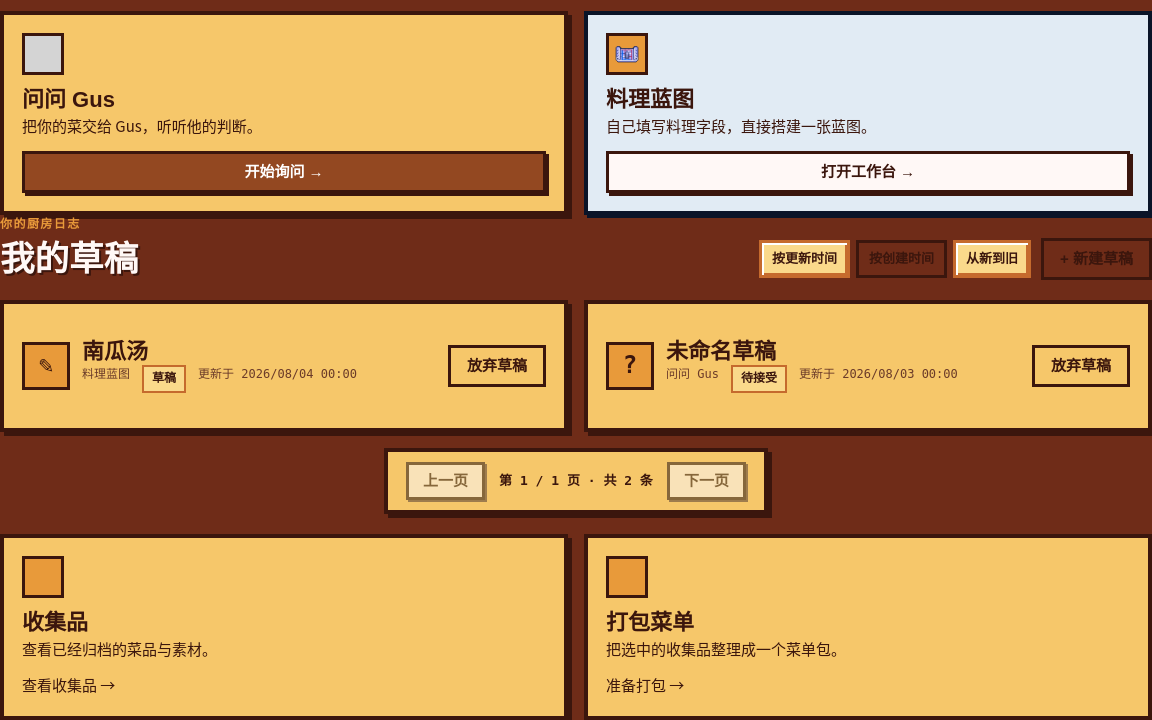
Test case: home page draft dashboard › deletes a draft after confirmation and refreshes the list
(page scrolled)
Expected: the heading "南瓜汤" is shown, [82,339,148,364]
Click the button "放弃草稿" in the row of "南瓜汤" at x=497, y=366, box [448,345,546,387]
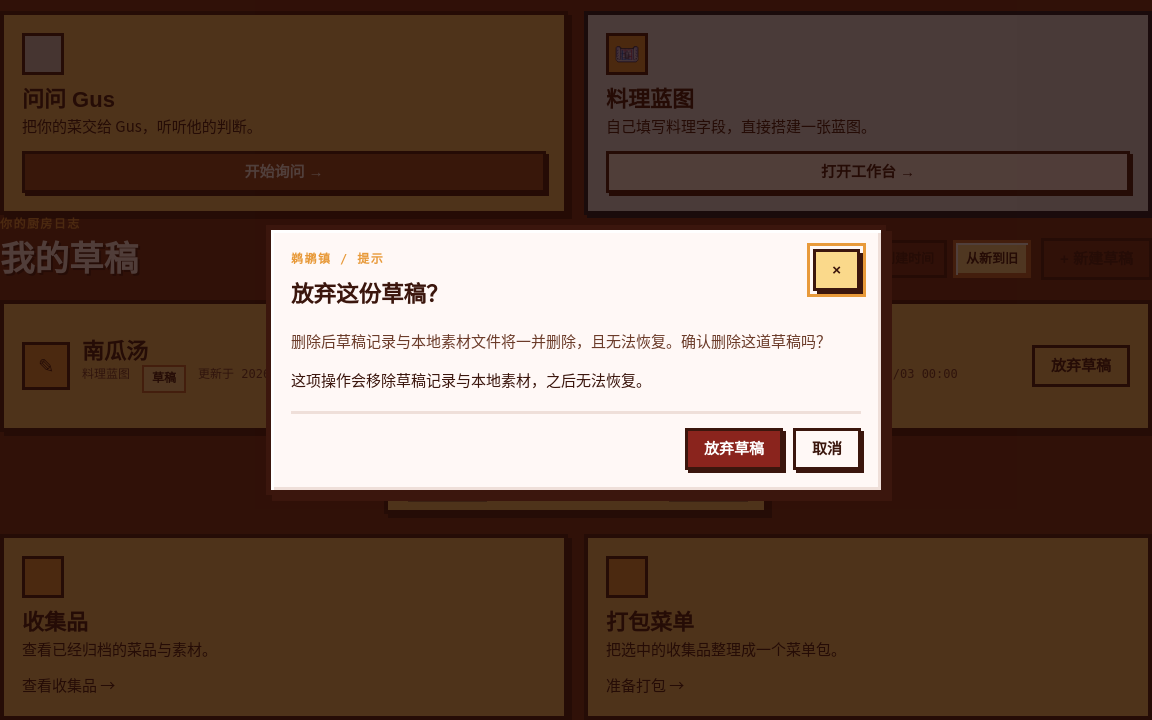
Expected: the text "删除后草稿记录与本地素材文件将一并删除，且无法恢复。确认删除这道草稿吗？" is shown, [291,329,861,354]
Click the button "放弃草稿" at x=734, y=449, box [685,428,783,470]
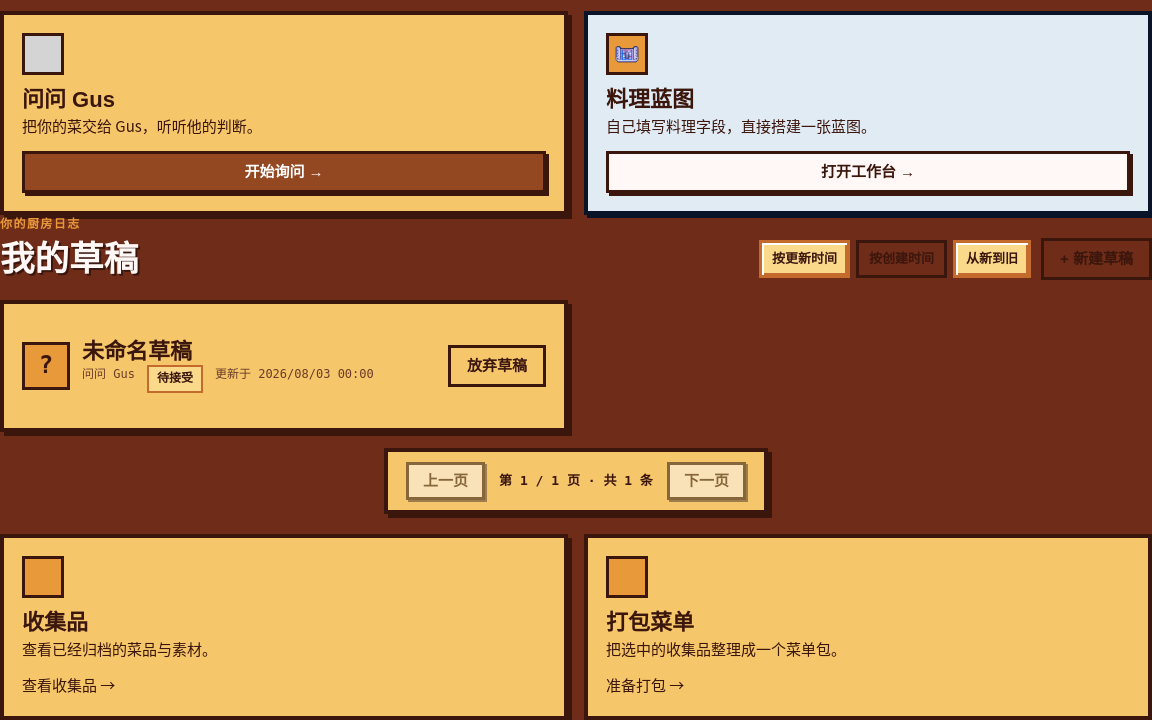
Expected: the heading "未命名草稿" is shown, [82,339,192,364]
Expected: the link "南瓜汤" is gone
